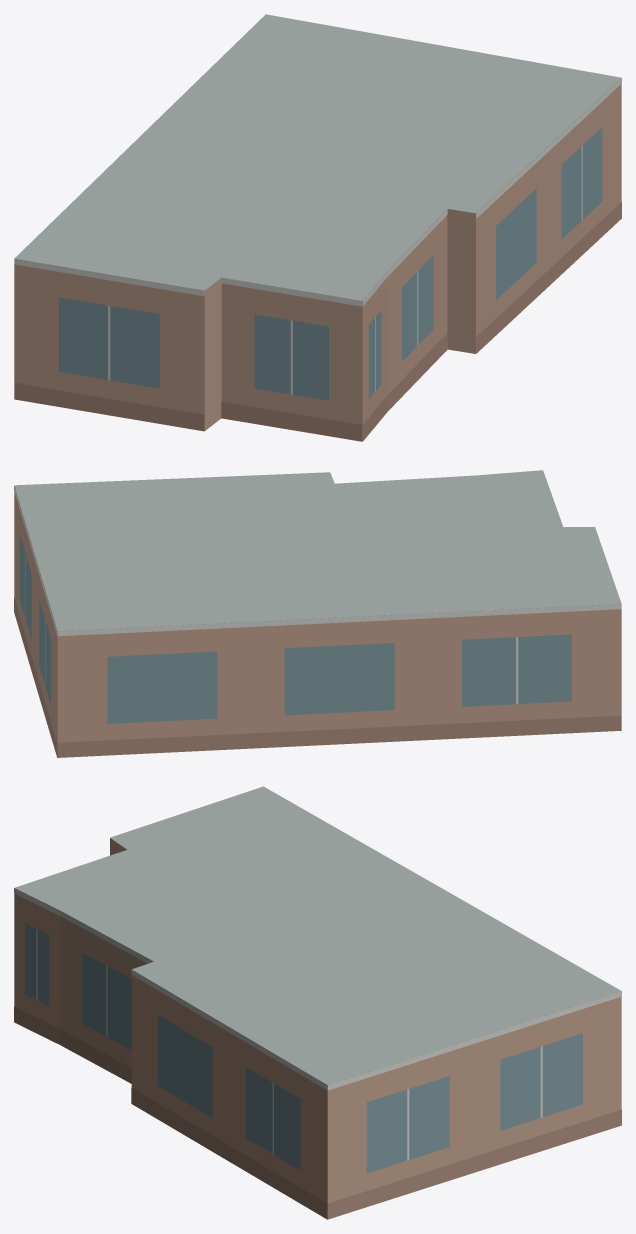
The model's file is survey-upis-32636036.glb.
3 renders of one model, top to bottom at view 1: azimuth 30°, elevation 25°; view 2: azimuth 150°, elevation 25°; view 3: azimuth 270°, elevation 25°, orthographic. The views are drawn at different scales.
Visible parts, largest first — view 1: survey-upis-32636036.tmp; view 2: survey-upis-32636036.tmp; view 3: survey-upis-32636036.tmp.
Part boxes in pixels (x1,y1,x2,y2): survey-upis-32636036.tmp: (14,14,621,441); survey-upis-32636036.tmp: (14,470,621,757); survey-upis-32636036.tmp: (14,786,621,1219).
Size of the model in its own units: 14.55 by 3.05 by 12.5.
